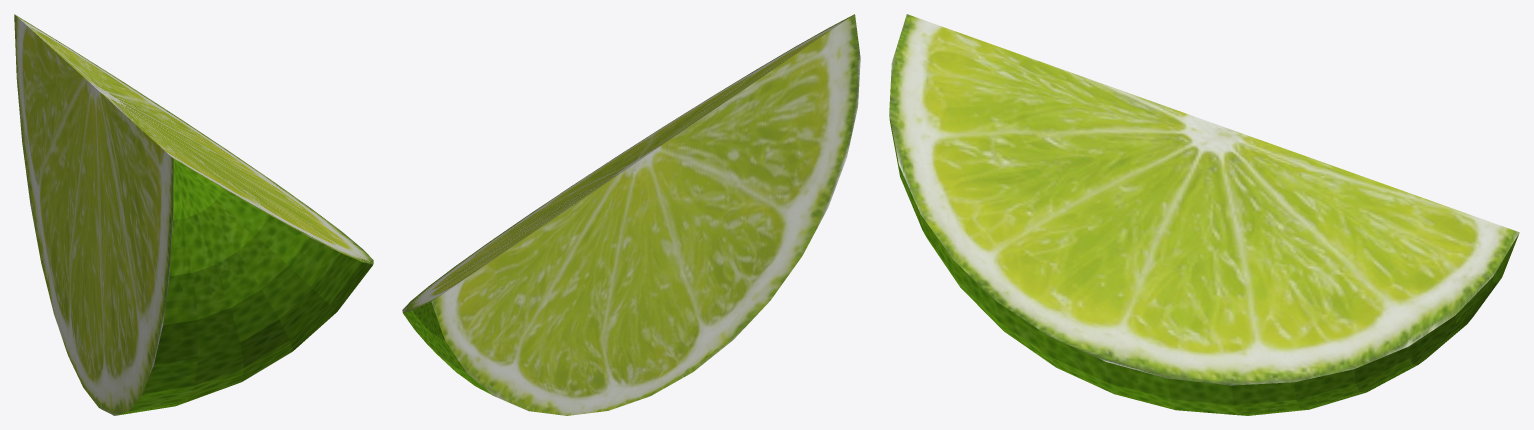
File: lime_slice_-_basic_low_poly.glb
The picture shows the model from 3 angles, left to right: view 1: azimuth 30°, elevation 25°; view 2: azimuth 150°, elevation 25°; view 3: azimuth 270°, elevation 25°; orthographic projection. The views are drawn at different scales.
Visible parts, largest first — view 1: slice_0; view 2: slice_0; view 3: slice_0.
Part boxes in pixels (left/top/right/bottom): slice_0: left=14, top=14, right=373, bottom=415; slice_0: left=402, top=14, right=860, bottom=415; slice_0: left=889, top=14, right=1519, bottom=415.
Bounding box in the file's own units: 1.15 × 1.27 × 2.18.
2 materials, 2 textured.
